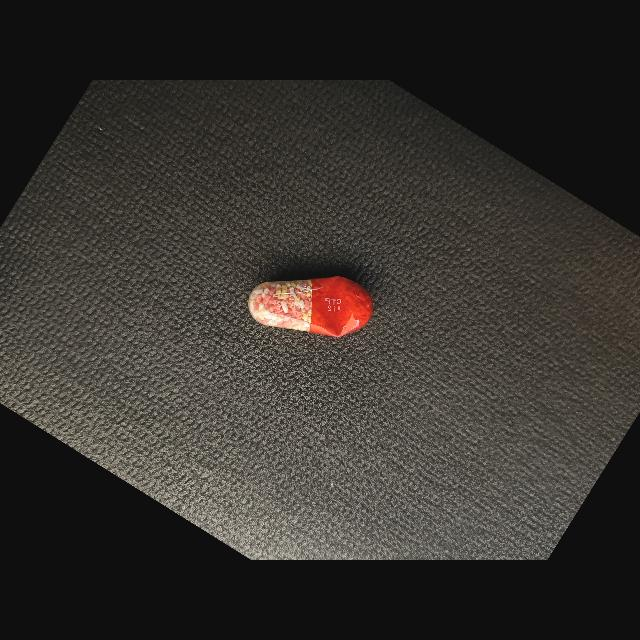Defective Capsule: (248, 276, 373, 337)
